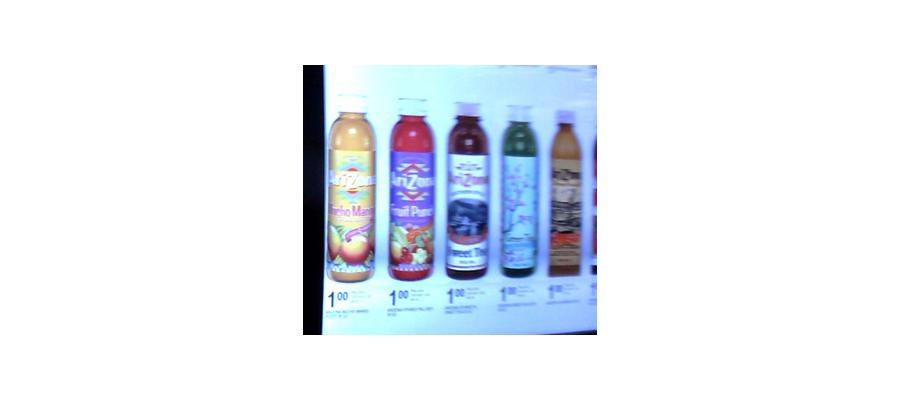bottle: (387, 102, 439, 278), (444, 101, 492, 280), (331, 99, 378, 271), (546, 104, 589, 273), (497, 107, 539, 280)
